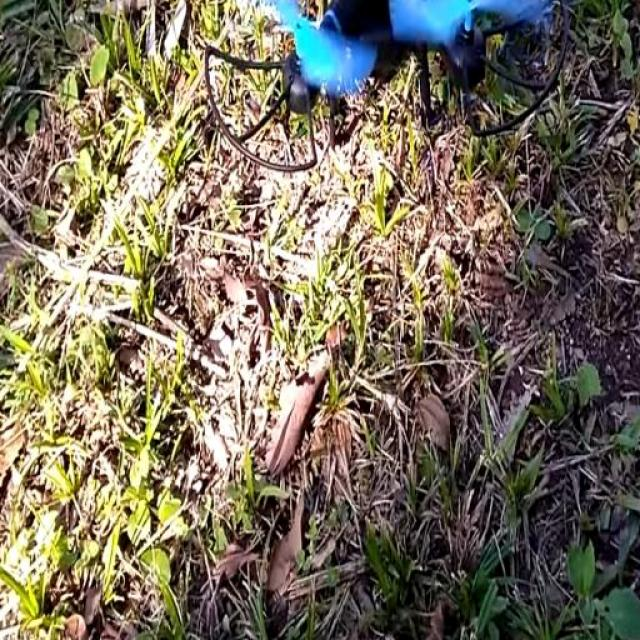bird: (204, 0, 574, 172)
